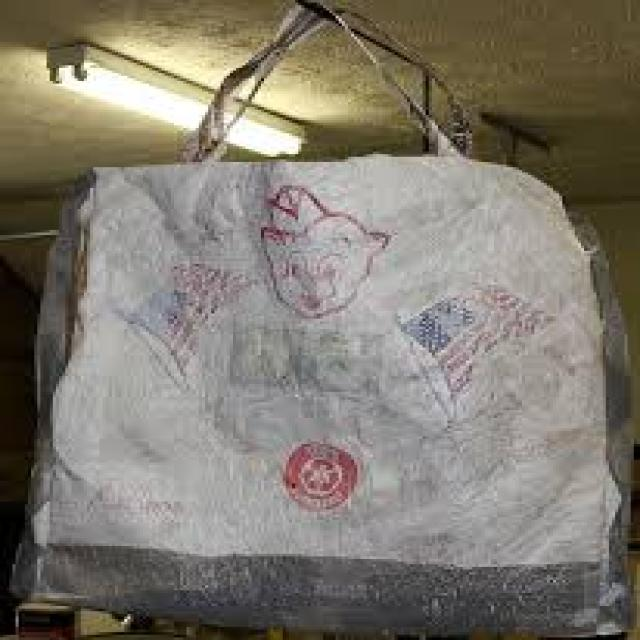plastic: (3, 0, 627, 637)
